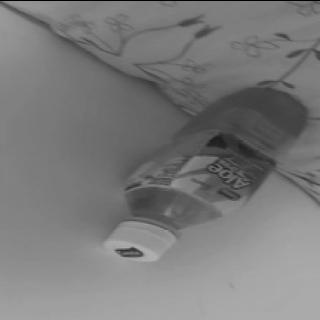plastic_bottles: (105, 80, 298, 268)
